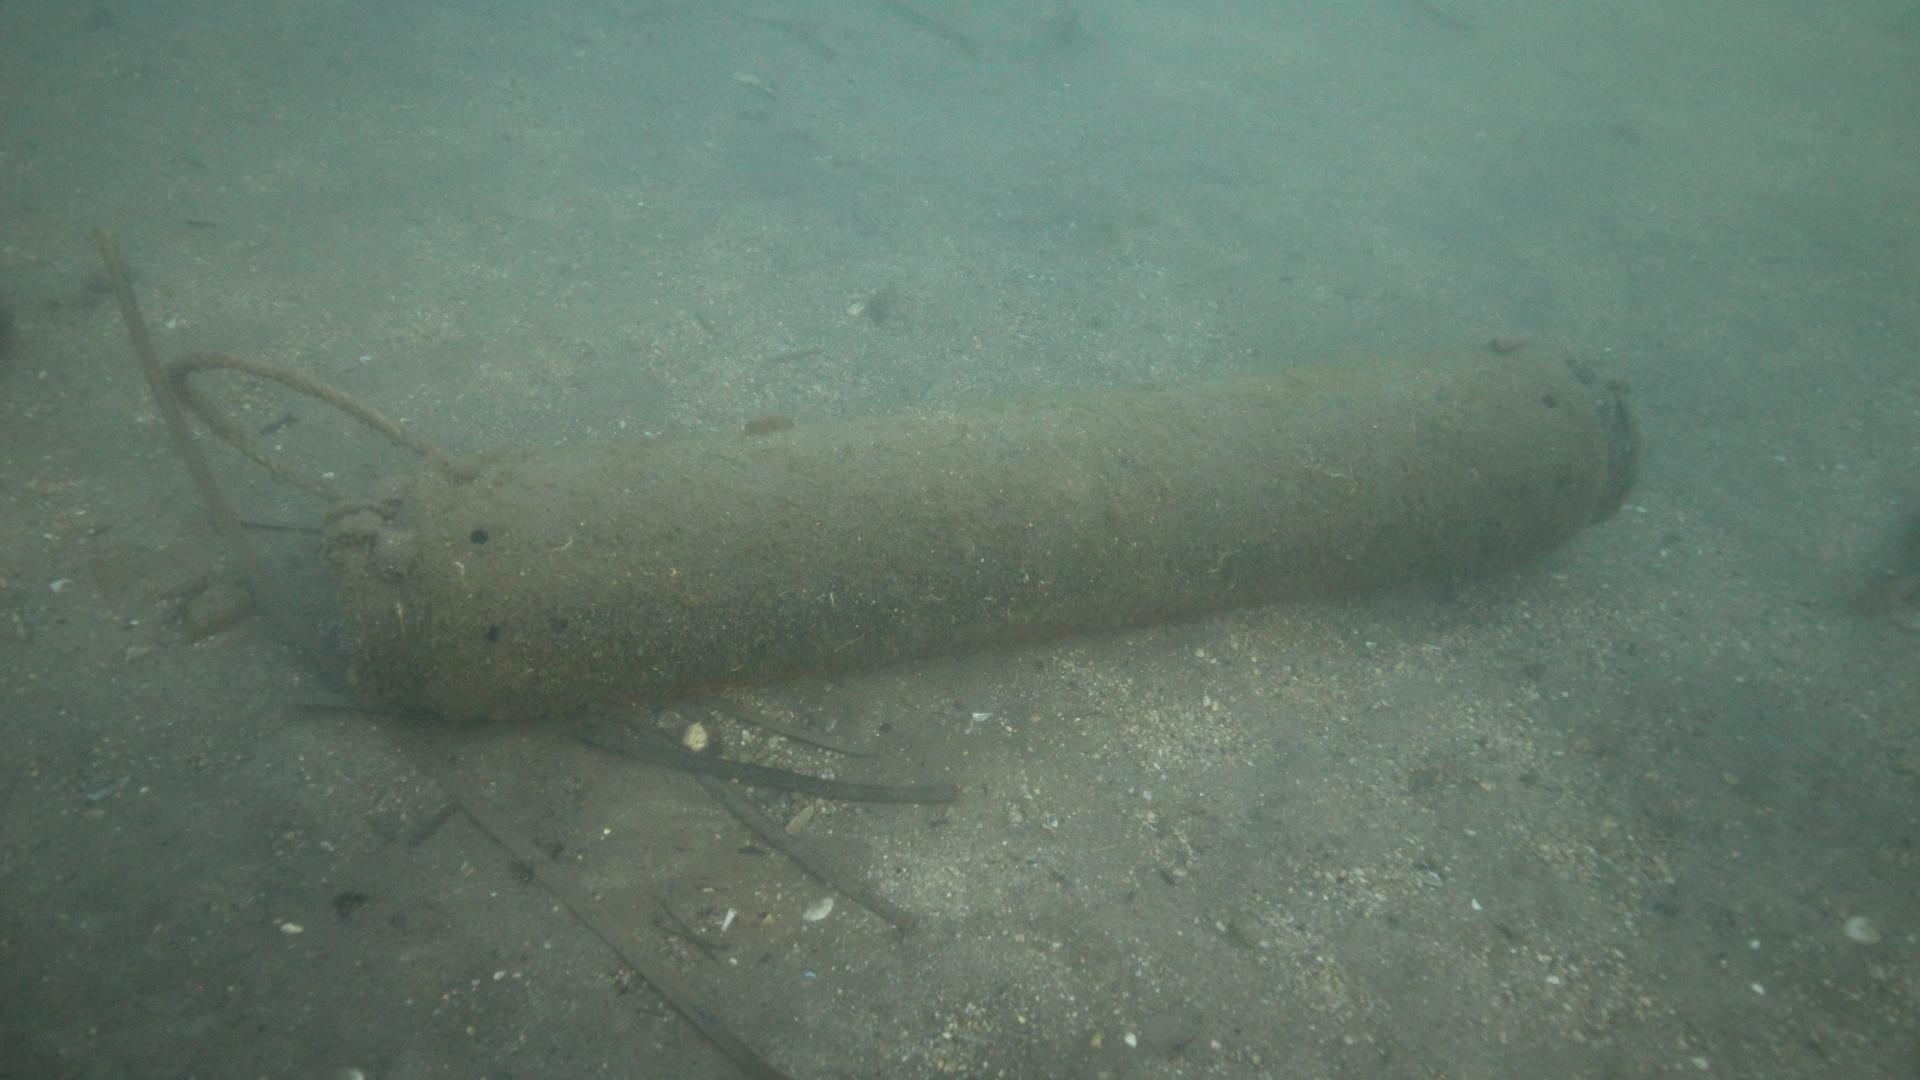eel fish trap: (328, 335, 1639, 727)
rope: (162, 345, 477, 510)
